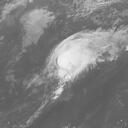cyclone: (46, 31, 99, 82)
